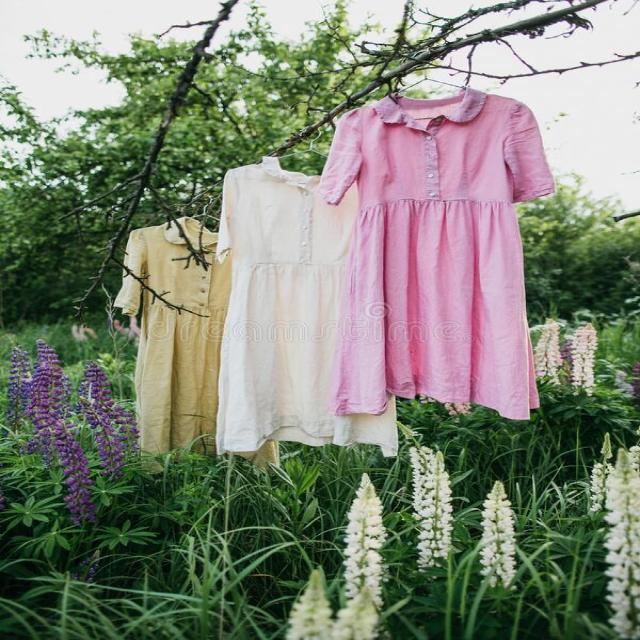clothes: (123, 85, 522, 458)
